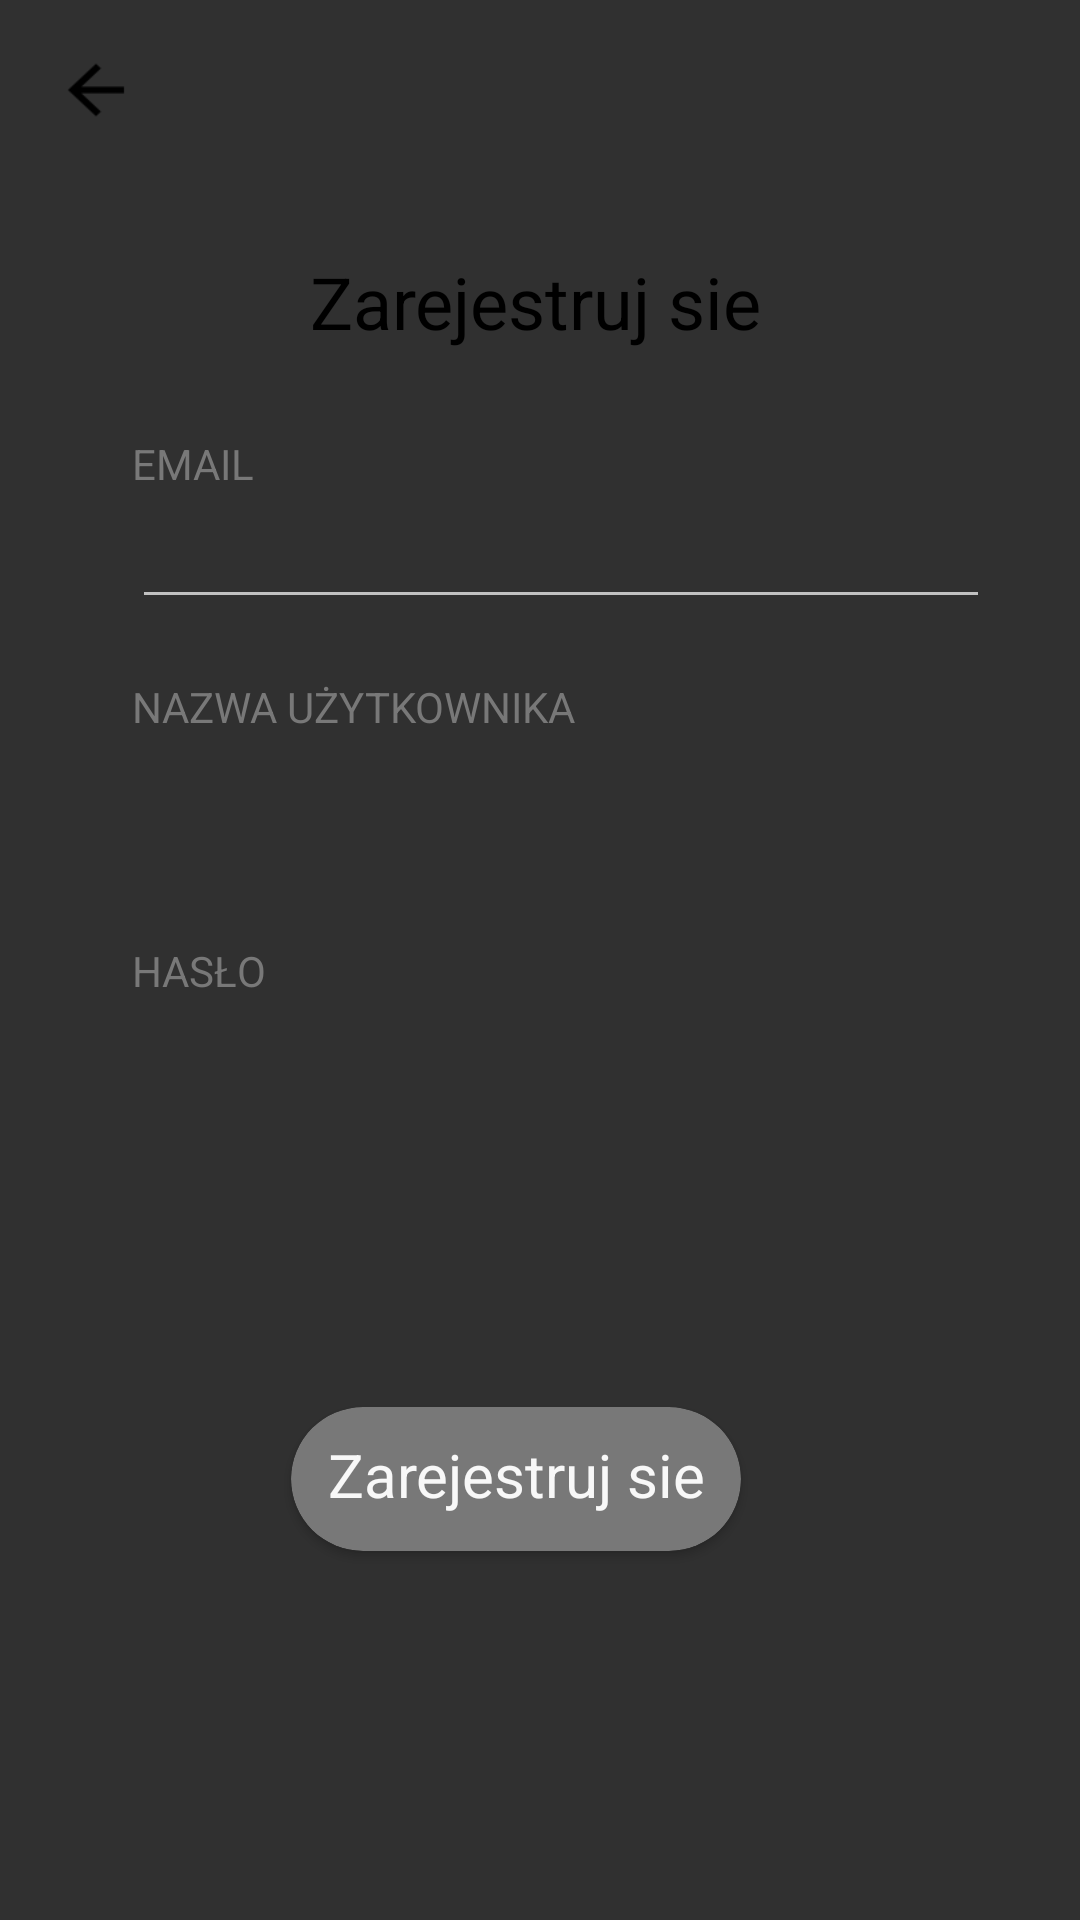

Icon click points for this 1080×1920 phone screenshot, format (x=x, y=y):
back: (x=96, y=90)
